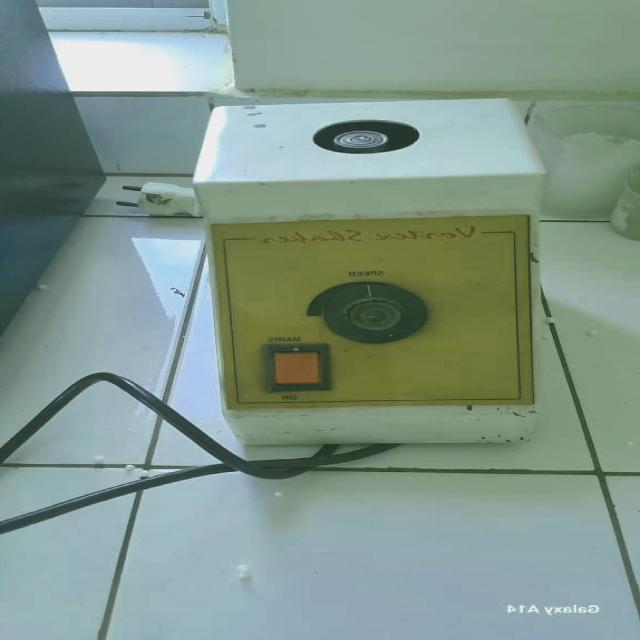Vortex: (189, 94, 545, 466)
